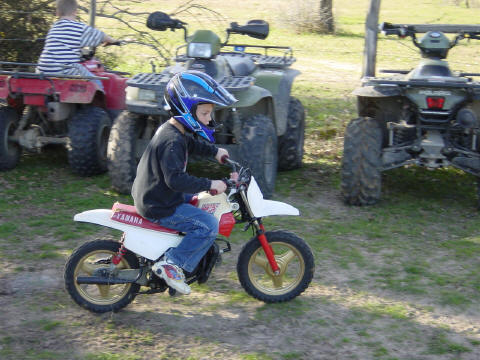person: (132, 70, 232, 297)
